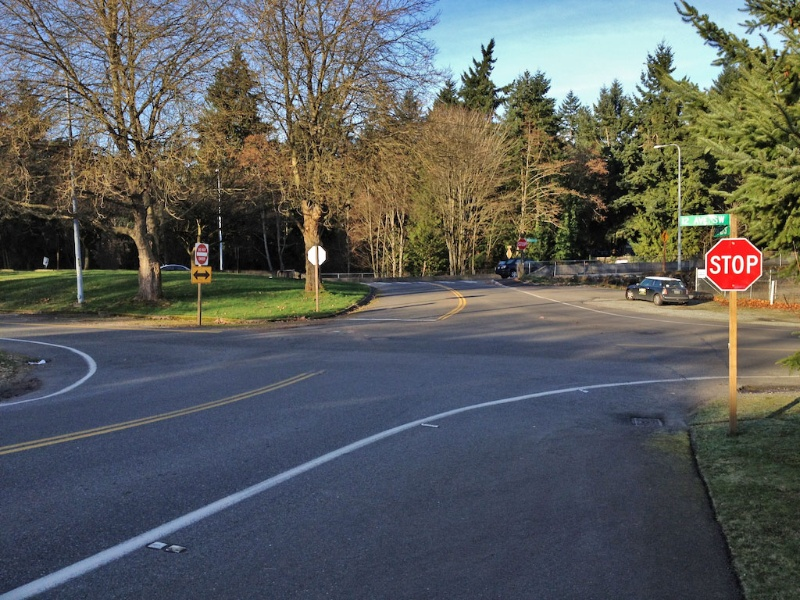stop sign: (701, 235, 765, 295), (513, 238, 530, 250)
